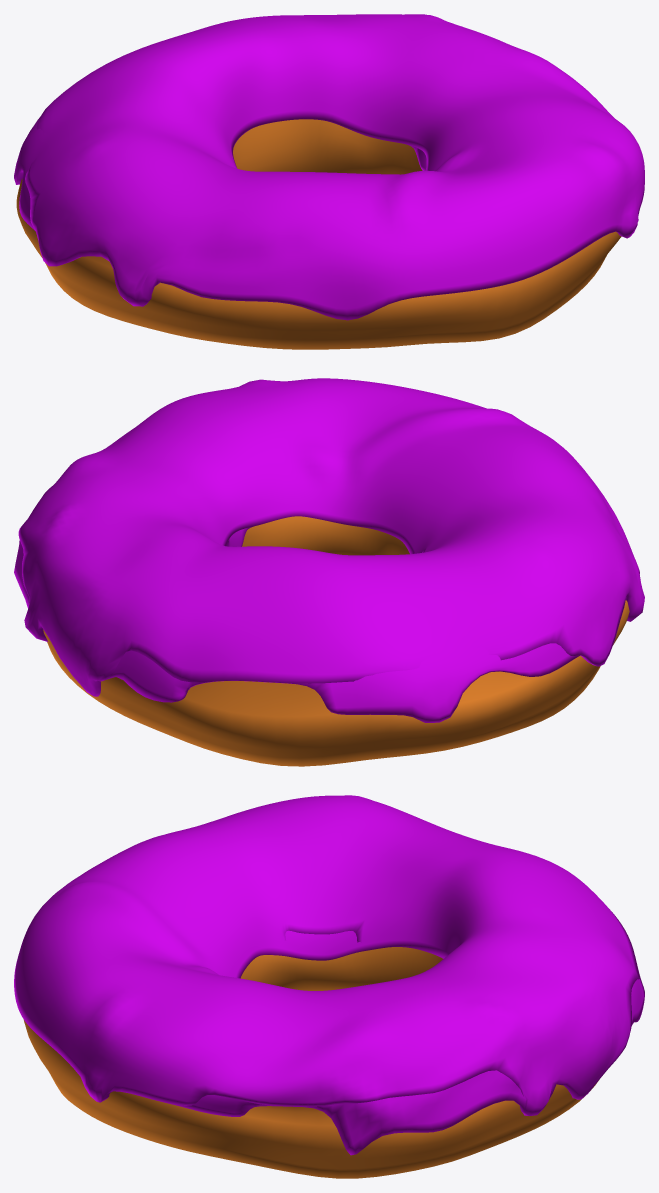
Rendered from donutrose.glb.
The picture shows the model from 3 angles, top to bottom: view 1: azimuth 30°, elevation 25°; view 2: azimuth 150°, elevation 25°; view 3: azimuth 270°, elevation 25°; orthographic projection. The views are drawn at different scales.
Parts seen in each view (by area): view 1: Cover, Donut; view 2: Cover, Donut; view 3: Cover, Donut.
Boxes of the visible parts, x1,y1,x2,y2 form: Cover: (14, 14, 644, 320); Donut: (16, 119, 621, 349); Cover: (14, 378, 644, 722); Donut: (43, 516, 629, 766); Cover: (14, 795, 644, 1155); Donut: (23, 947, 598, 1178).
Bounding box in the file's own units: 0.416 × 0.1284 × 0.4131.
